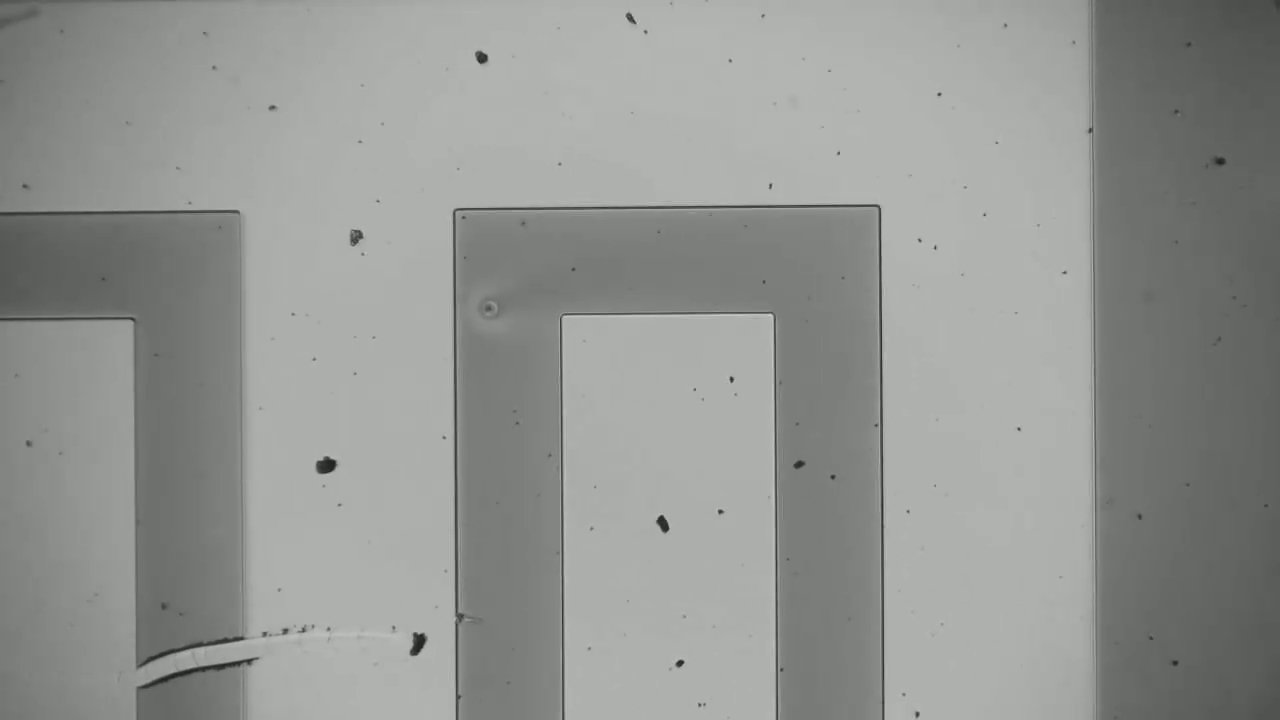Short_circuit: (104, 627, 291, 699)
